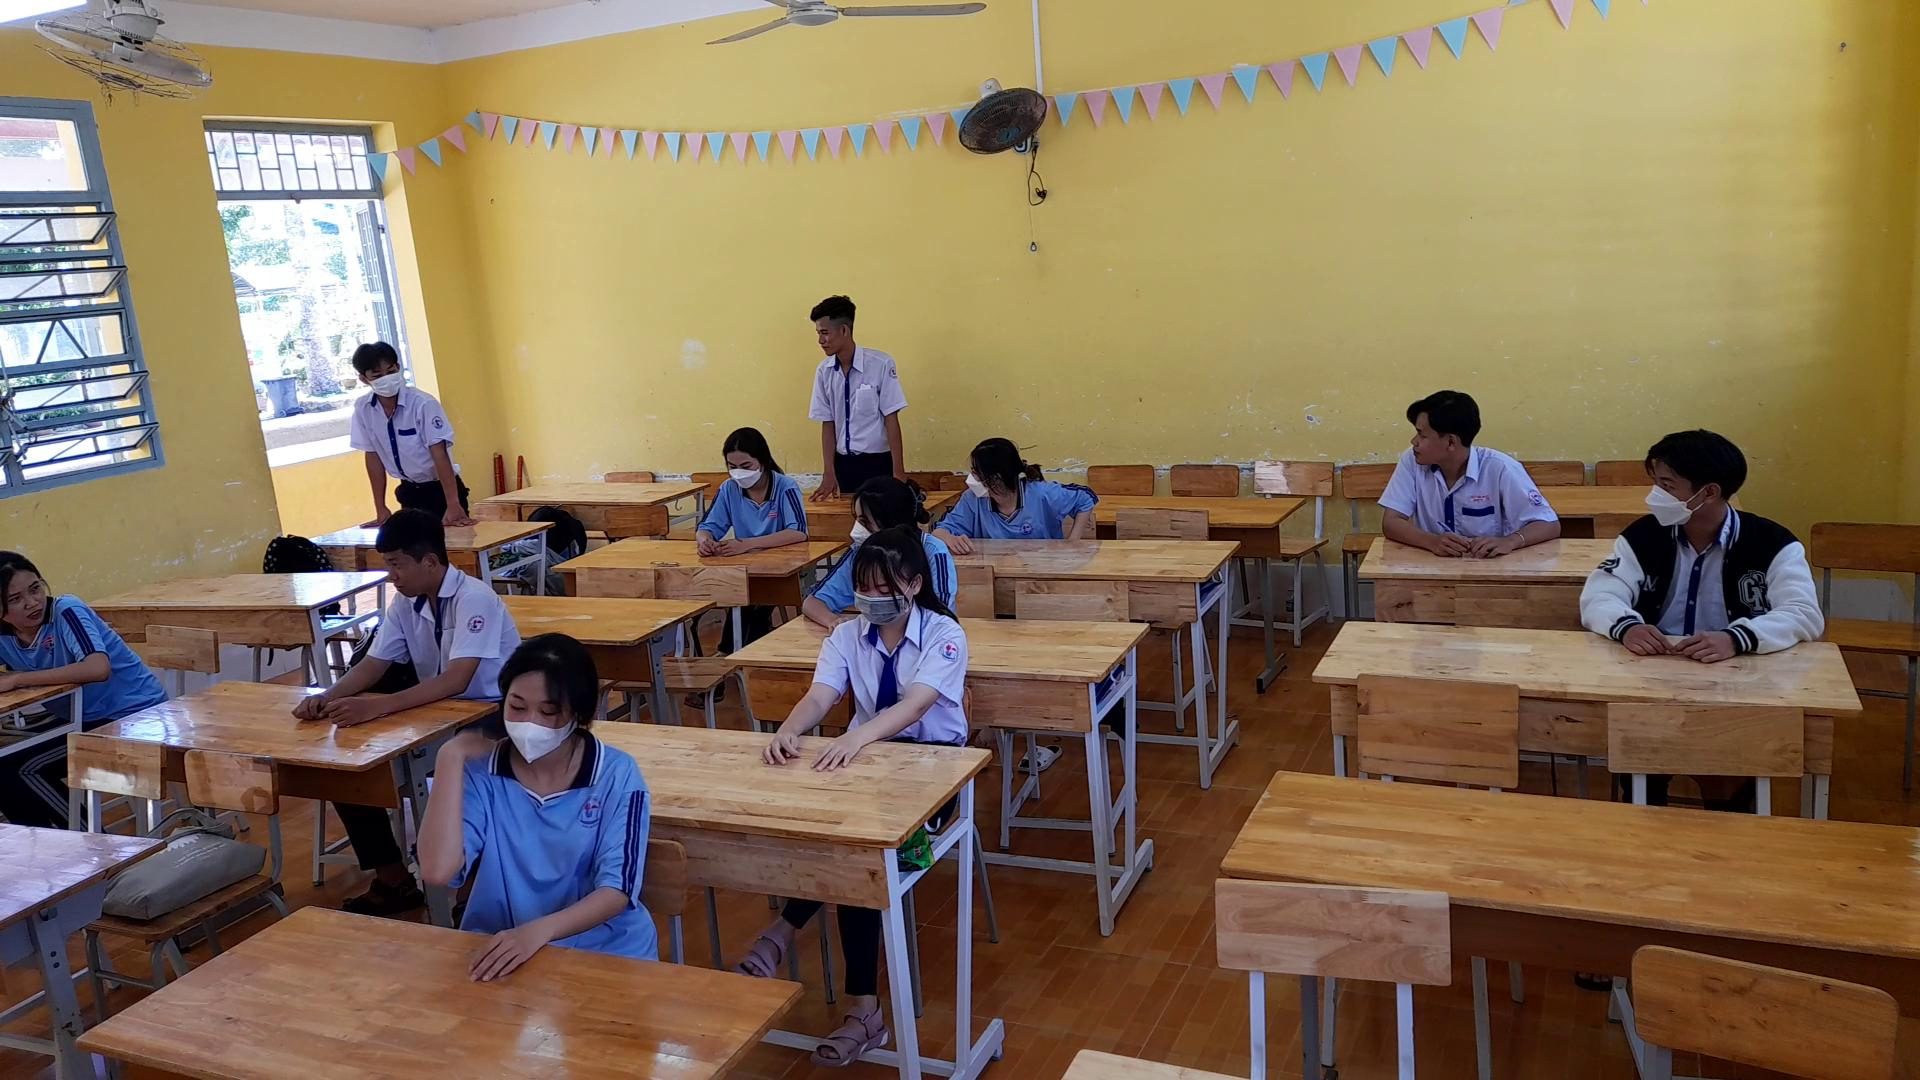Look Around: (1627, 418, 1754, 531), (1375, 371, 1502, 483), (943, 419, 1036, 510)
Normal: (752, 521, 971, 785), (673, 404, 823, 560)
Stand Up: (335, 334, 473, 518), (798, 287, 915, 483)
